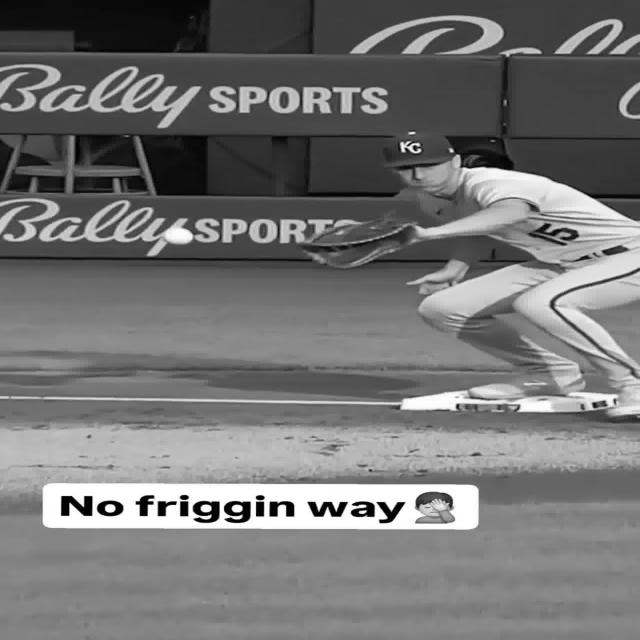base: (400, 390, 618, 412)
baseball: (164, 228, 193, 245)
baseball_glove: (302, 219, 416, 269)
shoe: (467, 371, 585, 400), (607, 384, 640, 419)
